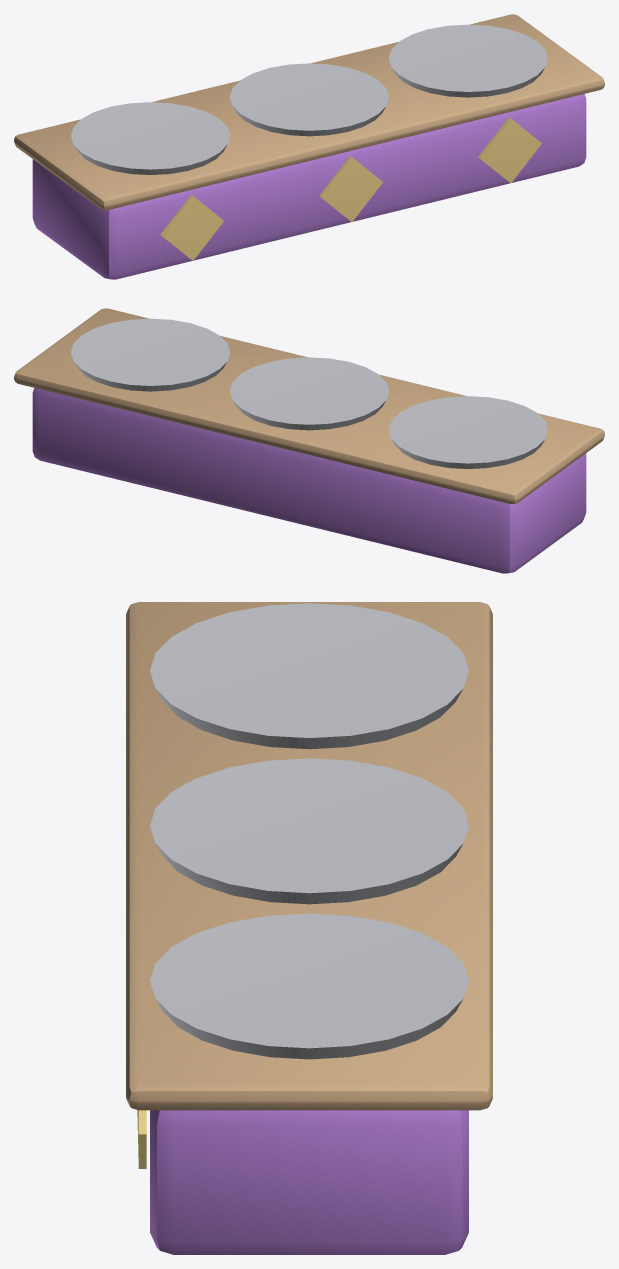
File: Counter_Purple.fbx
The picture shows the model from 3 angles, top to bottom: view 1: azimuth 30°, elevation 25°; view 2: azimuth 150°, elevation 25°; view 3: azimuth 270°, elevation 25°; orthographic projection. The views are drawn at different scales.
Parts seen in each view (by area): view 1: Counter_Purple; view 2: Counter_Purple; view 3: Counter_Purple.
Part boxes in pixels (x1,y1,x2,y2): Counter_Purple: (14,14,604,279); Counter_Purple: (14,308,604,573); Counter_Purple: (126,602,492,1254).
Size of the model in its own units: 7.3 by 1.4 by 2.3.
